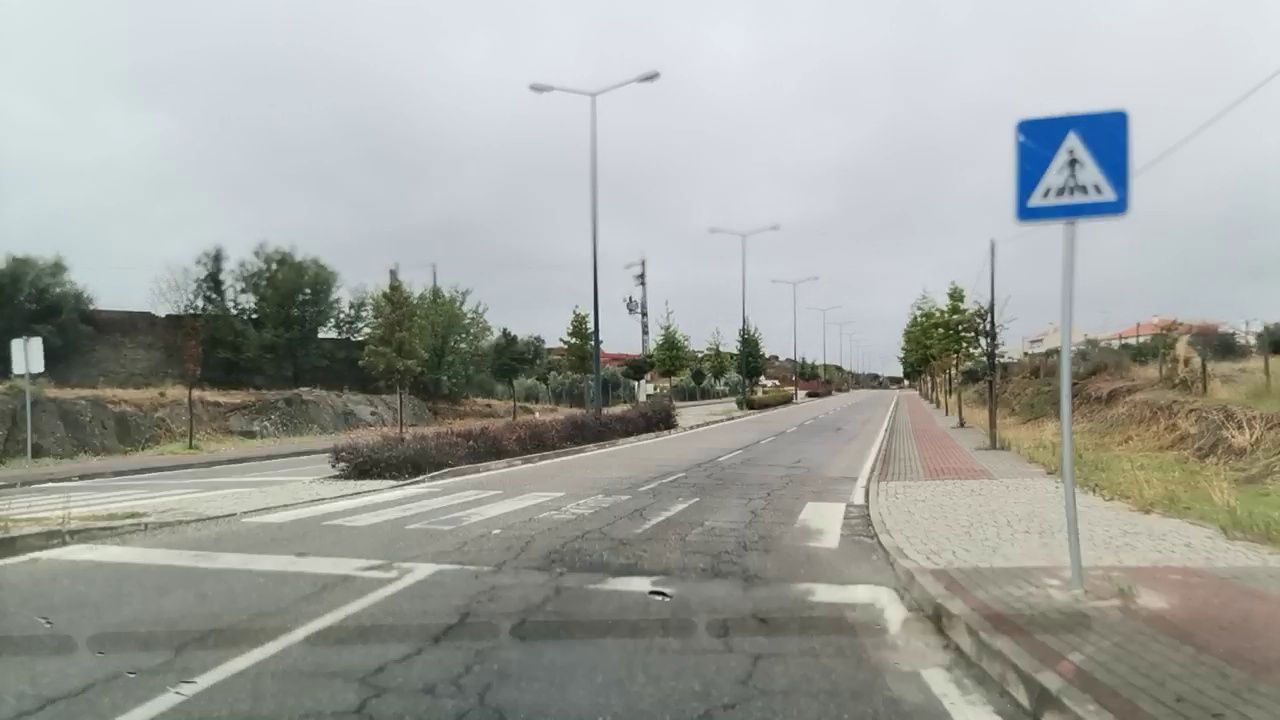Stairs: (241, 490, 846, 549)
